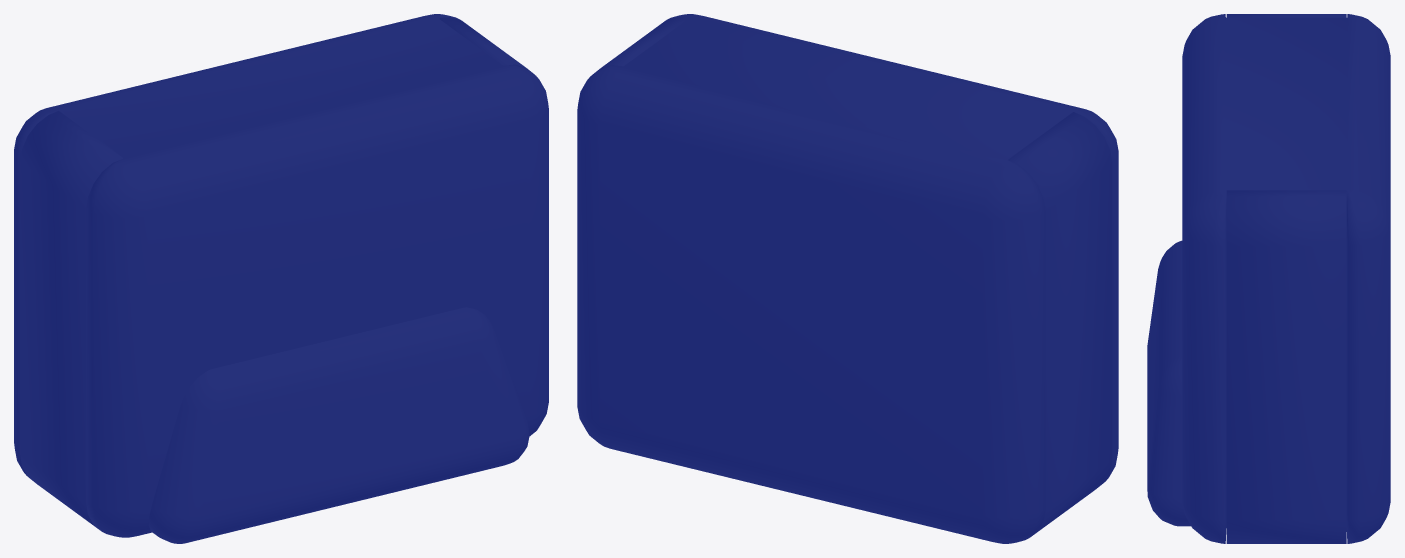
Rendered from OUTLINE5.GLB.
3 renders of one model, left to right at view 1: azimuth 30°, elevation 25°; view 2: azimuth 150°, elevation 25°; view 3: azimuth 270°, elevation 25°, orthographic. The views are drawn at different scales.
Parts seen in each view (by area): view 1: head.001; view 2: head.001; view 3: head.001.
Boxes of the visible parts, x1,y1,x2,y2 form: head.001: [14, 14, 548, 543]; head.001: [577, 14, 1118, 543]; head.001: [1147, 14, 1390, 543].
Size of the model in its own units: 2.14 by 1.68 by 1.06.
